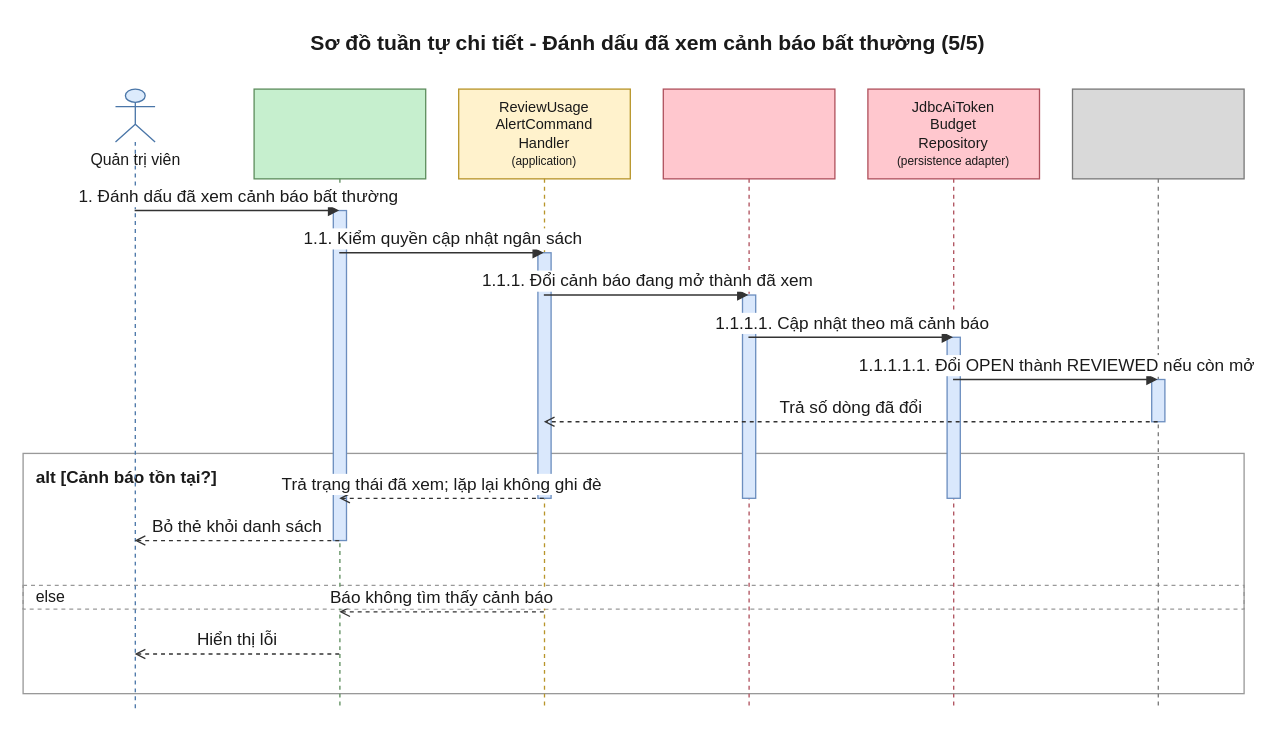
Some shapes in this 1276 by 733 pixel diagram are drawn without their labels. The box of each missing label's shape, as (x1, y1, x2, y2) in pixels:
AdminLanguage Config Controller (presentation): (253, 88, 426, 710)
AiBudgetAdmin Repository (persistence adapter): (662, 88, 835, 710)
PostgreSQL (schema ai): (1071, 88, 1244, 710)
